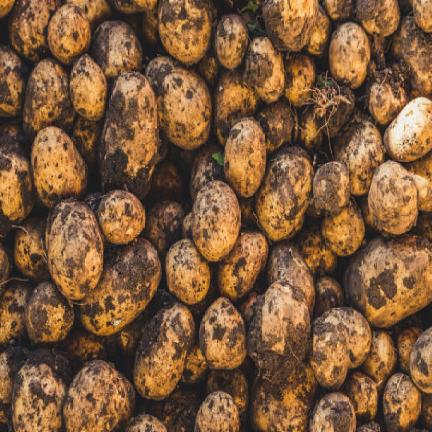potato: (344, 235, 431, 326), (80, 237, 160, 335), (100, 72, 157, 198), (248, 280, 310, 381), (147, 57, 211, 149), (133, 303, 193, 398), (45, 199, 102, 299), (256, 146, 313, 240), (63, 360, 135, 431), (11, 350, 68, 431), (31, 126, 87, 208), (250, 363, 317, 431), (23, 58, 74, 139), (191, 181, 240, 260), (335, 121, 385, 195), (368, 160, 417, 235), (159, 0, 215, 64), (267, 241, 314, 316), (218, 232, 268, 301), (214, 70, 258, 144), (391, 15, 431, 96), (200, 298, 246, 368), (224, 118, 265, 196), (309, 309, 349, 388), (8, 0, 60, 60), (383, 97, 431, 161), (0, 149, 34, 237), (25, 282, 73, 344), (165, 238, 210, 304), (92, 21, 142, 79), (263, 0, 318, 50), (329, 22, 370, 88), (244, 36, 284, 103), (96, 191, 145, 242), (47, 6, 90, 64), (69, 54, 107, 119), (330, 307, 371, 367), (13, 216, 49, 281), (323, 199, 364, 255), (151, 386, 202, 431), (144, 201, 184, 258), (361, 331, 396, 393), (256, 98, 296, 152), (383, 373, 420, 431), (0, 281, 32, 346), (0, 346, 27, 422), (70, 115, 102, 175), (205, 370, 247, 415), (312, 162, 349, 213), (215, 14, 248, 69), (189, 144, 222, 199), (0, 44, 25, 116), (194, 391, 239, 431), (299, 227, 337, 274), (368, 80, 407, 124), (343, 372, 378, 421), (310, 393, 355, 431), (320, 87, 354, 137), (404, 150, 431, 211), (188, 265, 217, 321), (284, 54, 315, 106), (356, 0, 400, 35), (409, 327, 431, 393), (149, 160, 186, 199), (64, 330, 106, 364), (66, 0, 112, 30), (305, 5, 331, 55), (181, 337, 208, 382), (396, 327, 421, 373), (315, 276, 343, 316), (298, 108, 323, 152), (116, 317, 144, 355), (0, 120, 29, 154), (197, 50, 221, 90), (141, 7, 160, 48), (125, 414, 166, 431), (238, 291, 257, 326), (323, 0, 353, 21), (412, 0, 431, 32), (111, 0, 157, 13), (360, 195, 376, 232), (239, 196, 256, 227), (0, 242, 10, 292), (83, 192, 102, 216), (416, 212, 431, 241), (306, 197, 323, 218), (421, 394, 431, 429), (0, 0, 15, 17), (182, 213, 192, 238), (356, 421, 380, 431)
